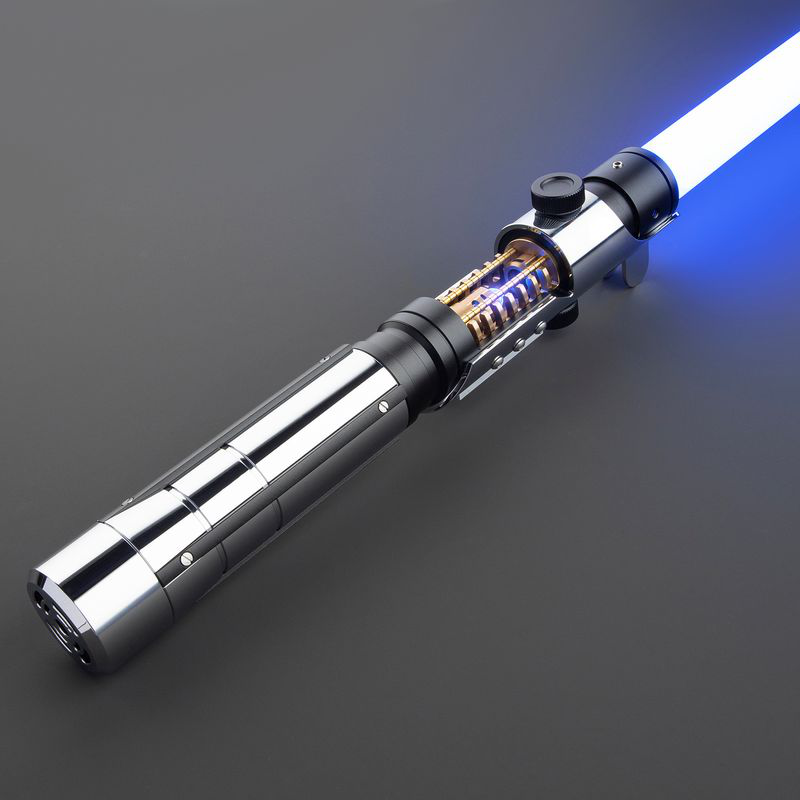lightsaber: (0, 69, 800, 725)
